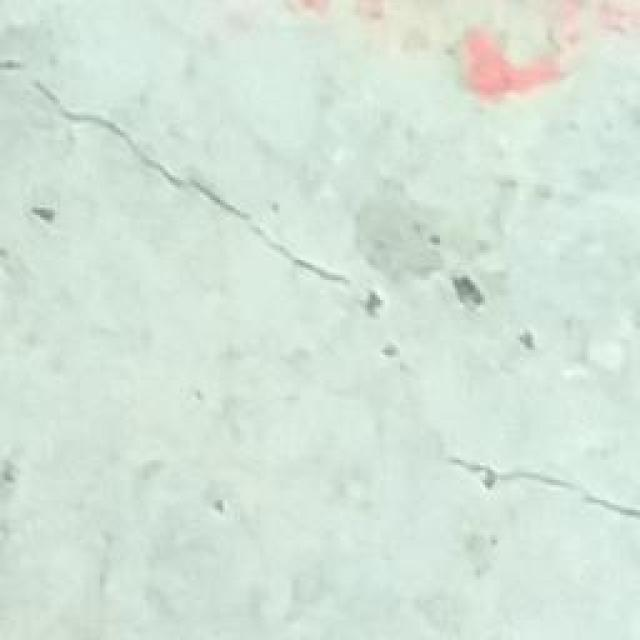Diagonal: (0, 49, 640, 522)
